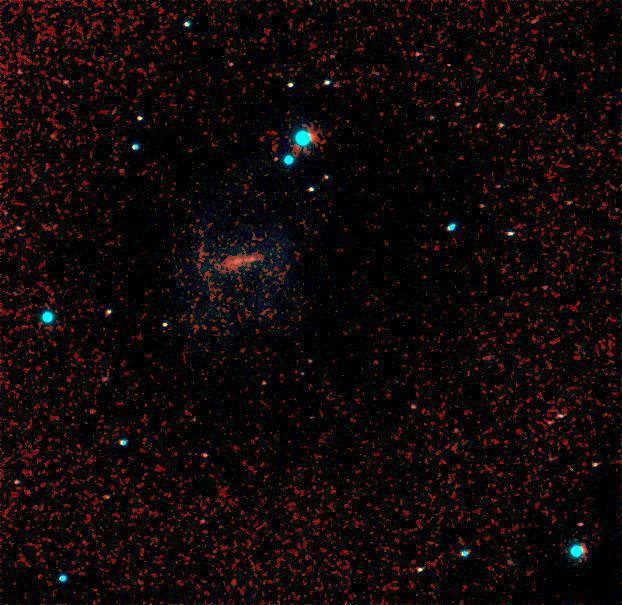star: (0, 199, 20, 229)
